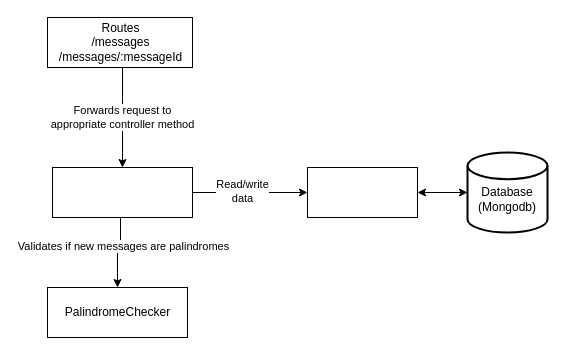
This 565x355 diagram has some shape labels left out. Each missing label, with the box of its shape:
Controller (MessageController): (52, 166, 192, 218)
Model (Message): (306, 166, 418, 218)
